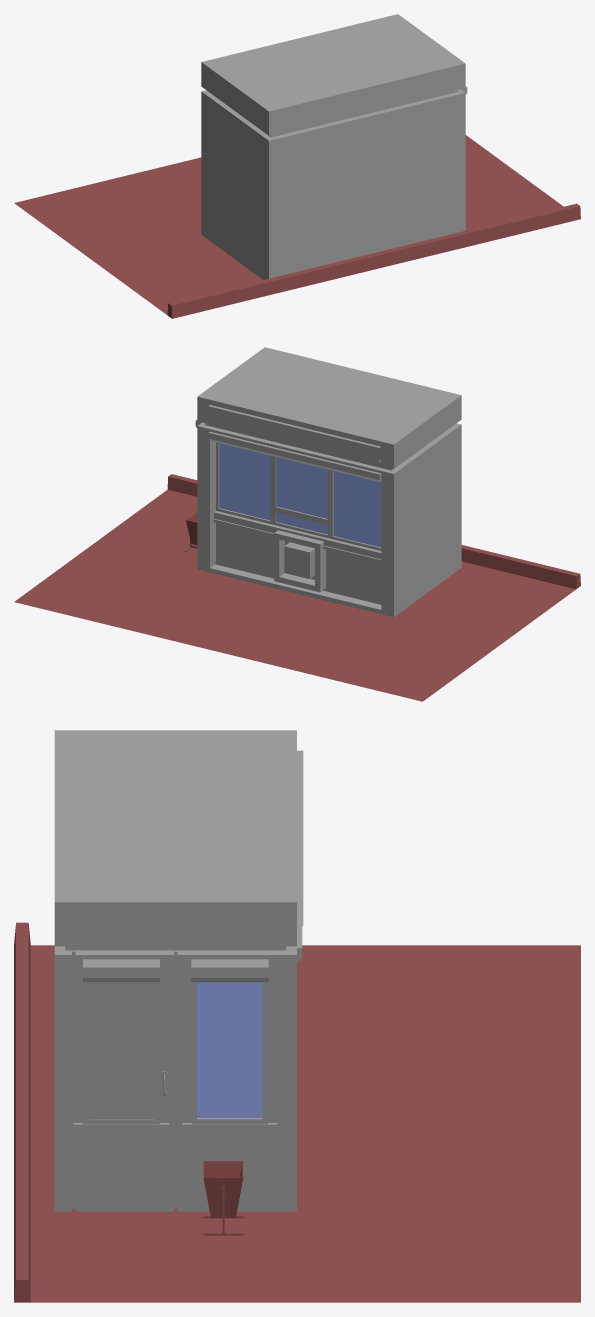
Rendered from M_Kiosk.fbx.
The picture shows the model from 3 angles, top to bottom: view 1: azimuth 30°, elevation 25°; view 2: azimuth 150°, elevation 25°; view 3: azimuth 270°, elevation 25°; orthographic projection. The views are drawn at different scales.
Parts seen in each view (by area): view 1: box, Floor; view 2: box, Floor, glass; view 3: Floor, box, glass.
Boxes of the visible parts, left/top/right/bottom form: box: left=201, top=14, right=467, bottom=279; Floor: left=14, top=135, right=580, bottom=318; box: left=195, top=347, right=461, bottom=617; Floor: left=14, top=474, right=580, bottom=701; glass: left=219, top=443, right=381, bottom=547; Floor: left=14, top=922, right=580, bottom=1302; box: left=54, top=730, right=303, bottom=1211; glass: left=197, top=982, right=262, bottom=1117.
Size of the model in its own units: 800 by 323 by 537.
